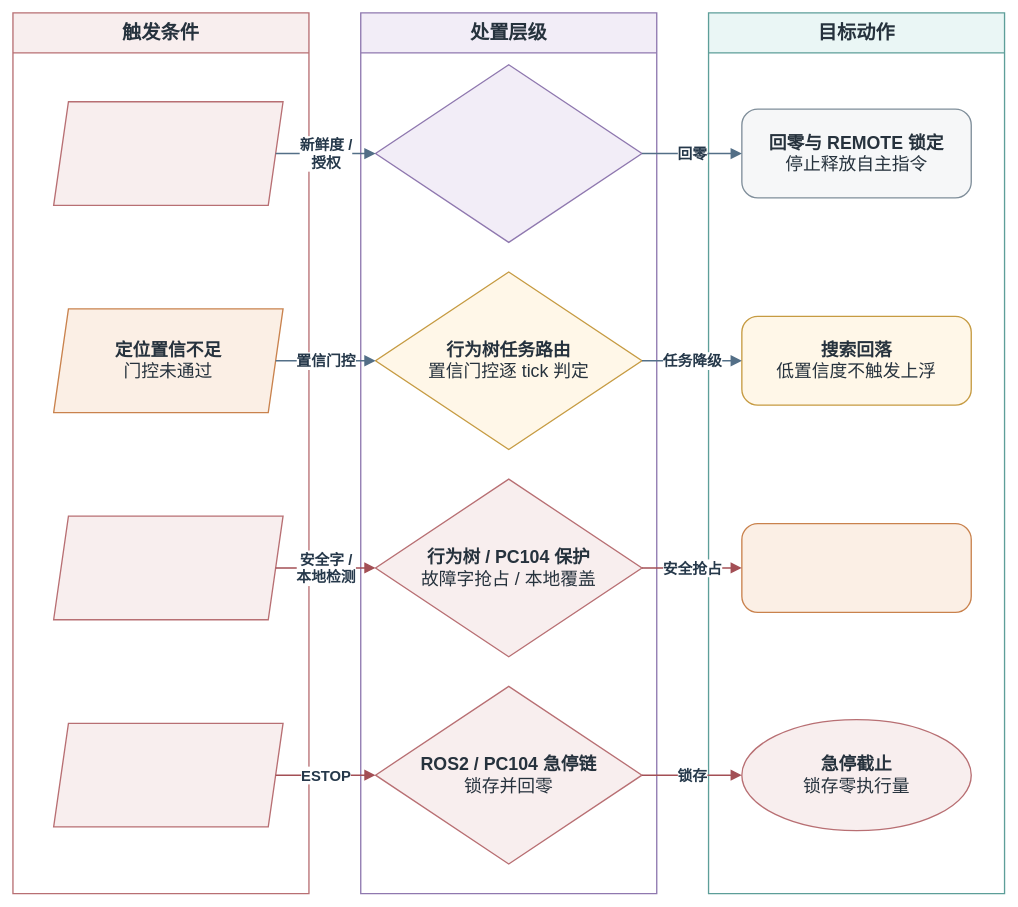
Image size: 1018x907. Some labels were removed from this diagram. Each missing label, with the centre of its shape:
ROS2 权限仲裁 新鲜度 / 授权: the point at 508,153
人工急停 地面站 ESTOP: the point at 168,774
独立紧急条件 漏水 / 低电 / 穿底: the point at 168,567
紧急上浮 / 防触底 独立安全条件: the point at 856,568
链路或授权异常 命令陈旧 / 授权撤销: the point at 168,153
